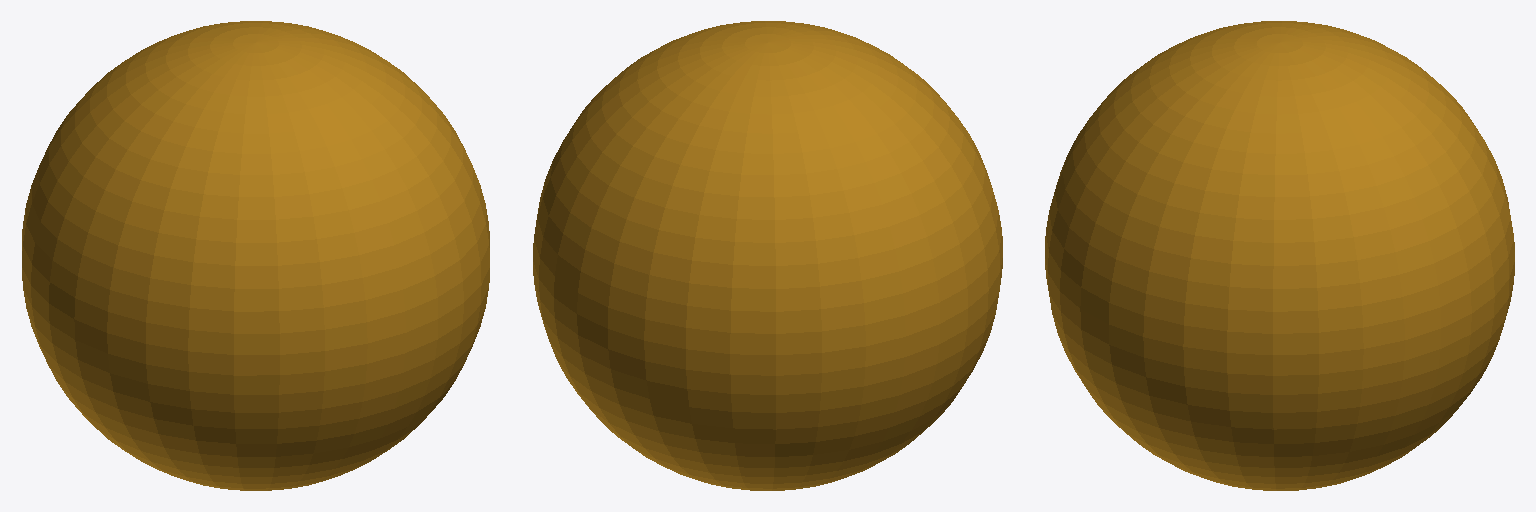
File: energybomb.obj
The picture shows the model from 3 angles: view 1: azimuth 30°, elevation 25°; view 2: azimuth 150°, elevation 25°; view 3: azimuth 270°, elevation 25°; orthographic projection.
Bounding box in the file's own units: 2.27 × 2.27 × 2.27.